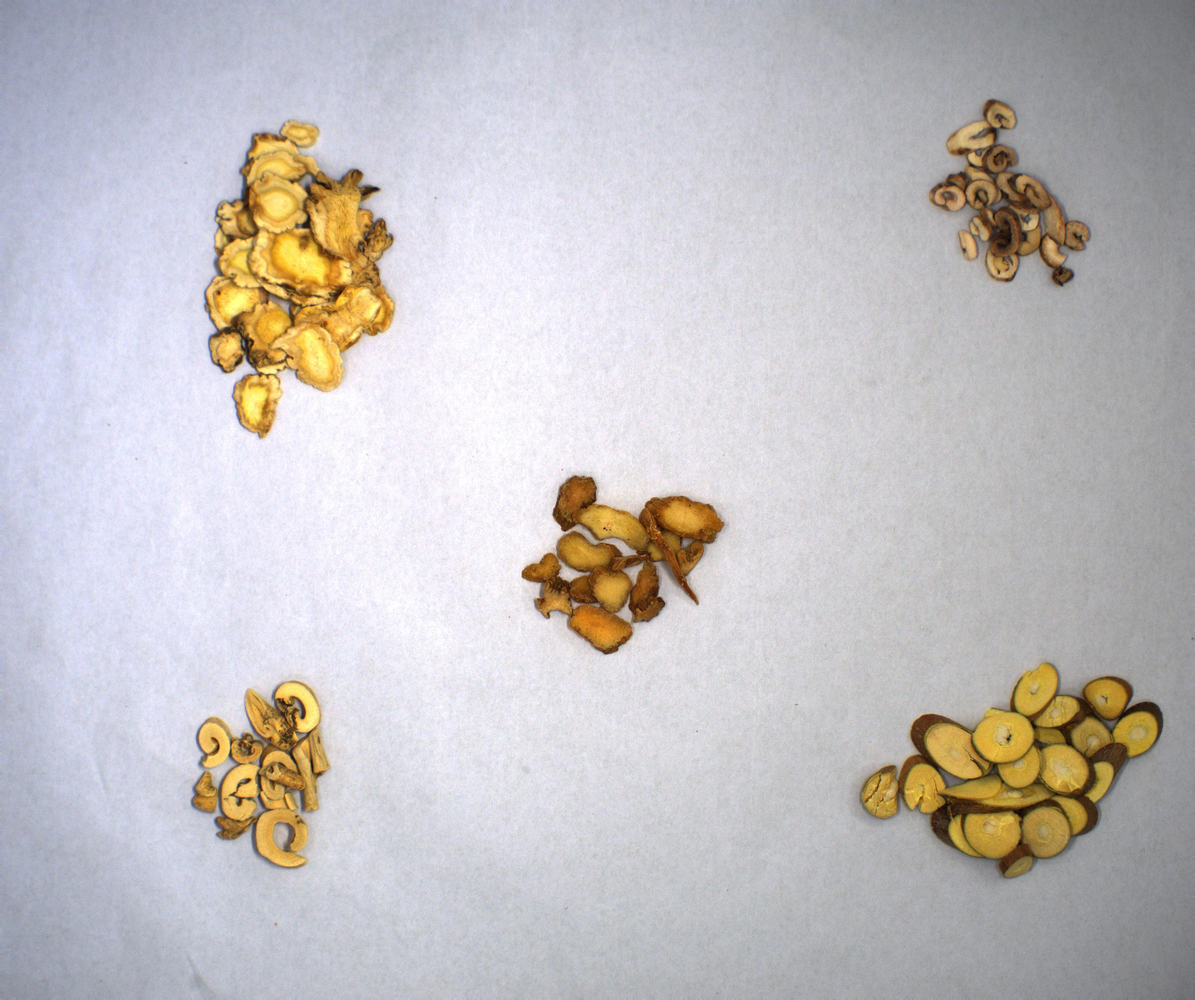baixianpi: (175, 660, 360, 886)
jiegeng: (191, 110, 420, 448)
mudanpi: (906, 82, 1120, 338)
sangzhi: (832, 632, 1180, 926)
yuzhu: (511, 420, 728, 689)
